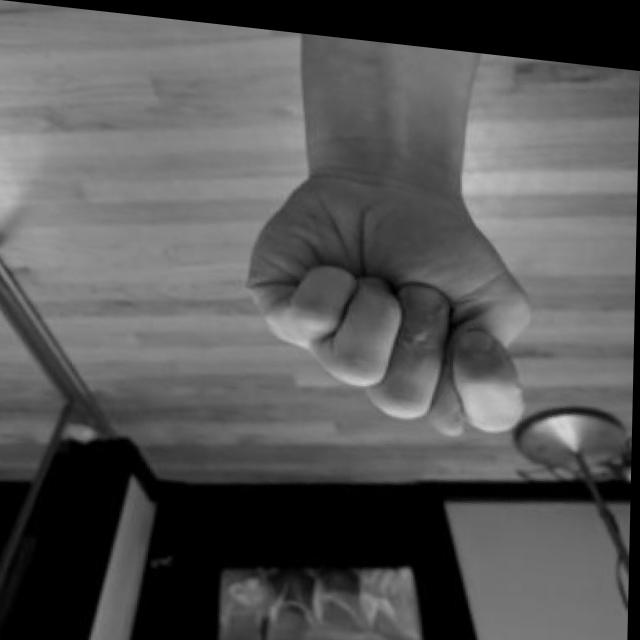T: (234, 147, 549, 444)
